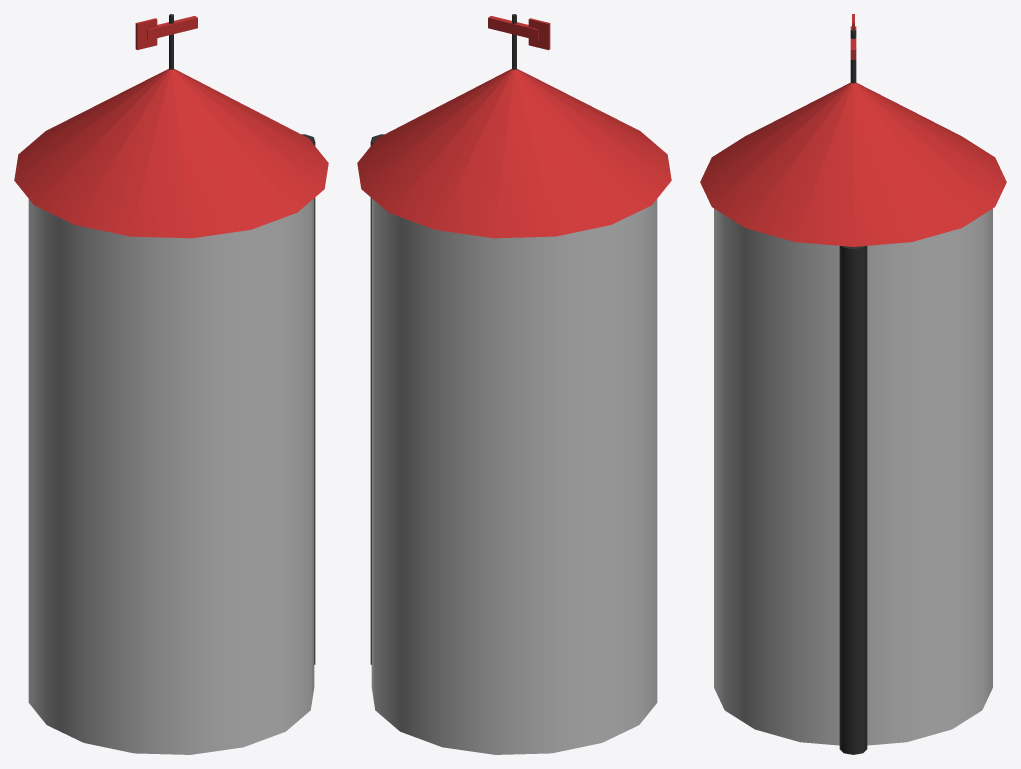
The model's file is silo.glb.
The picture shows the model from 3 angles, left to right: view 1: azimuth 30°, elevation 25°; view 2: azimuth 150°, elevation 25°; view 3: azimuth 270°, elevation 25°; orthographic projection. The views are drawn at different scales.
Parts seen in each view (by area): view 1: silo, vane_group; view 2: silo, vane_group; view 3: silo.
Boxes of the visible parts, x1,y1,x2,y2 form: silo: (14, 69, 328, 754); vane_group: (135, 14, 197, 69); silo: (357, 69, 671, 754); vane_group: (488, 14, 550, 69); silo: (700, 82, 1006, 754).
Bounding box in the file's own units: 1.12 × 2.6 × 1.1.
